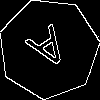A: (24, 23, 77, 80)
